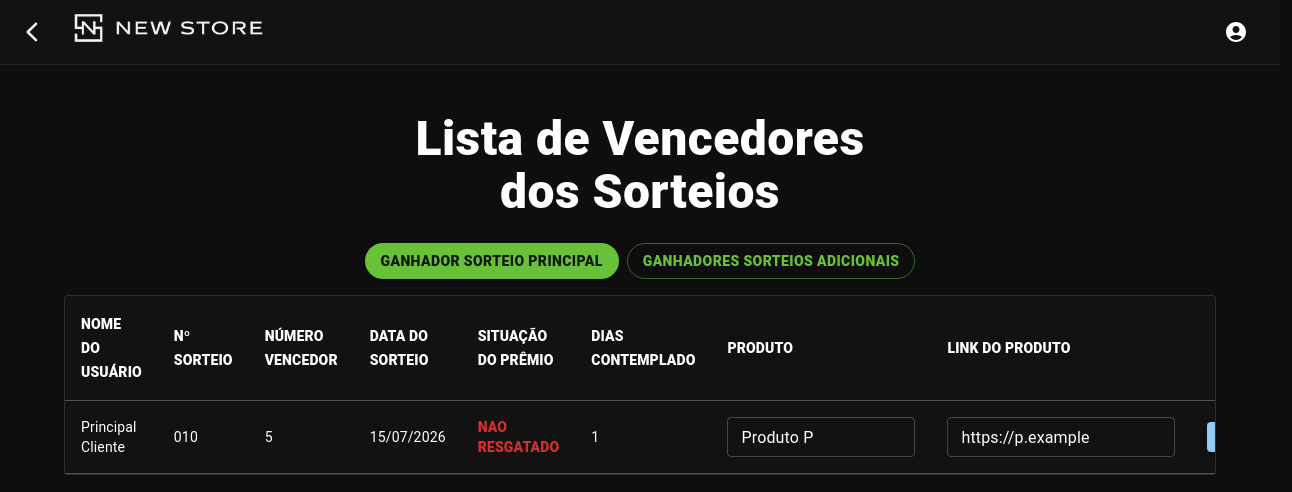
Scenario: adicional carrega /api/admin/winners?draw_type=adicional e nao o catalogo de adicionais
Expected: the text "Principal Cliente" is shown, top-left (65, 401), bottom-right (158, 474)
Click the button "Ganhadores Sorteios Adicionais": (771, 261) top-left (627, 243), bottom-right (916, 279)
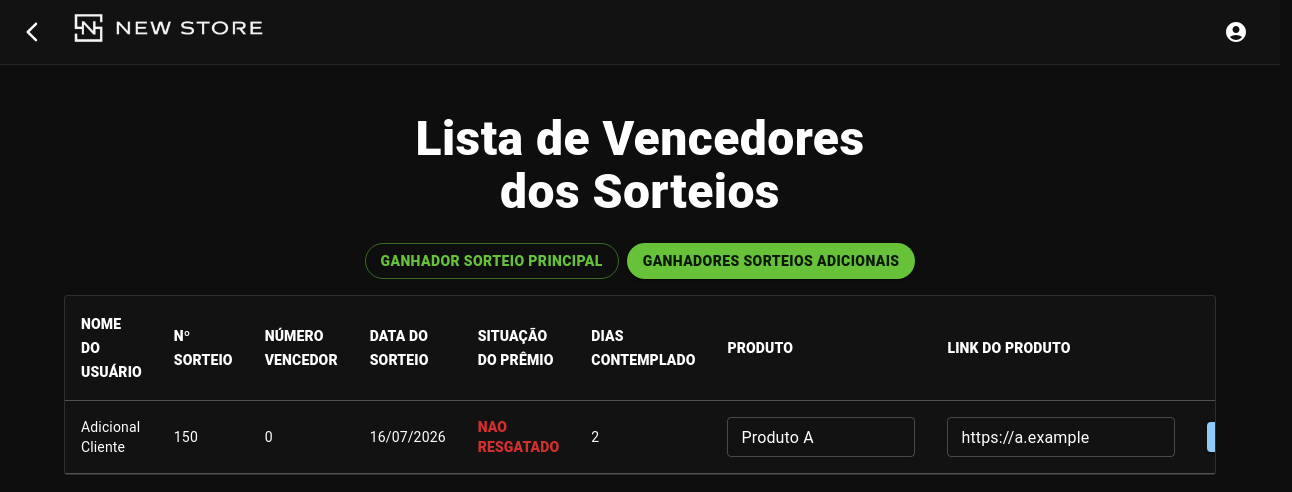
Result: the text "Adicional Cliente" is shown at top-left (65, 401), bottom-right (158, 474)
Result: the text "0" is shown at top-left (249, 401), bottom-right (354, 474)
